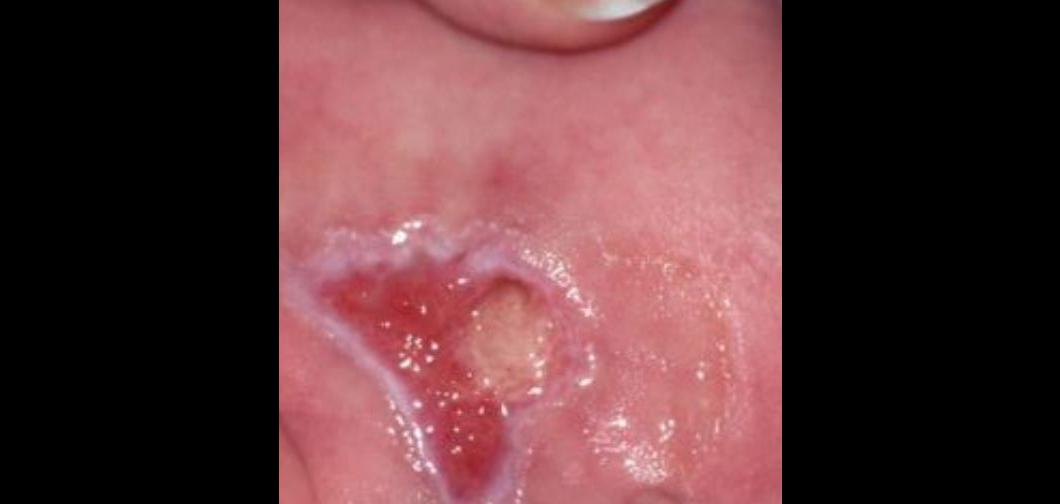Stage3: (278, 143, 637, 504)
